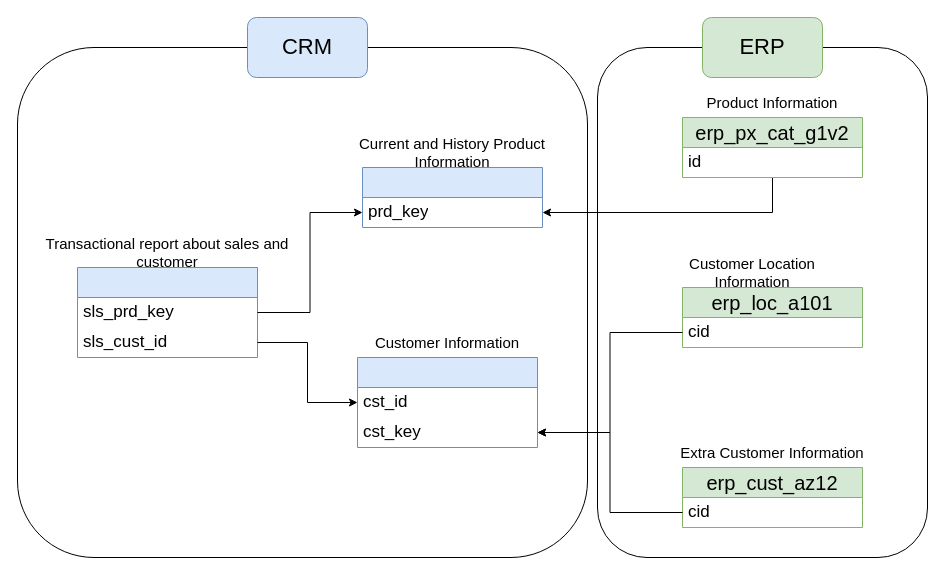
Some shapes in this 945 by 575 pixel diagram are drawn without their labels. Here are the shapes that lost their labels. From the top down, the box of each, then its label:
(362, 166, 542, 228): crm_prd_info
(76, 266, 258, 358): crm_sales_details
(356, 356, 538, 448): crm_cust_info
